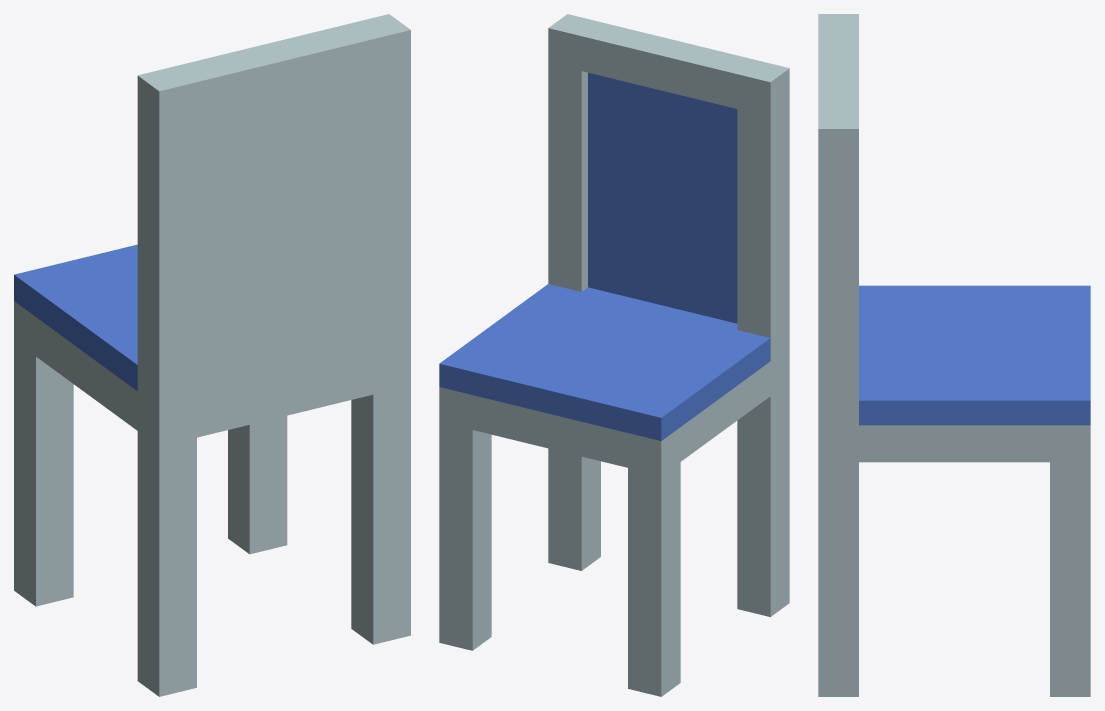
File: chairModernCushion.glb
3 renders of one model, left to right at view 1: azimuth 30°, elevation 25°; view 2: azimuth 150°, elevation 25°; view 3: azimuth 270°, elevation 25°, orthographic. The views are drawn at different scales.
Parts seen in each view (by area): view 1: chairModernCushion; view 2: chairModernCushion; view 3: chairModernCushion.
Boxes of the visible parts, left/top/right/bottom form: chairModernCushion: left=14, top=14, right=410, bottom=696; chairModernCushion: left=439, top=14, right=789, bottom=696; chairModernCushion: left=818, top=14, right=1090, bottom=696.
Bounding box in the file's own units: 0.4421 × 1.02 × 0.4421.
